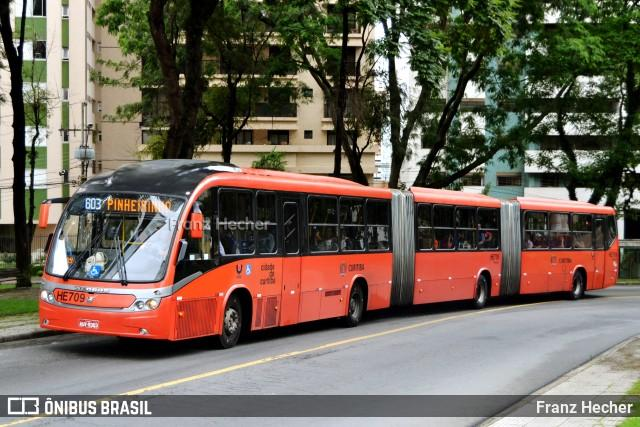PINHEIRINHO: (105, 196, 175, 216)
